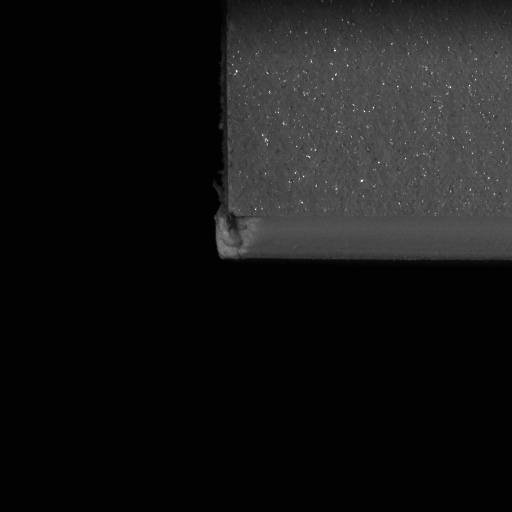bengque: (212, 201, 260, 257)
